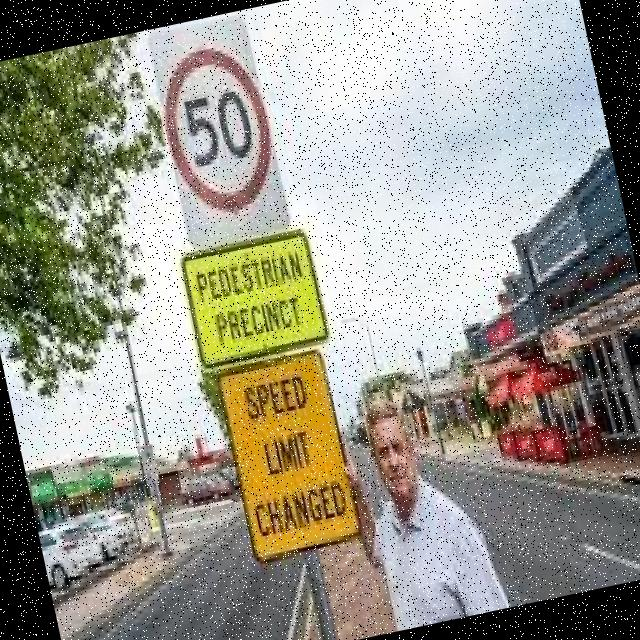speed_limit_50: (150, 34, 288, 223)
